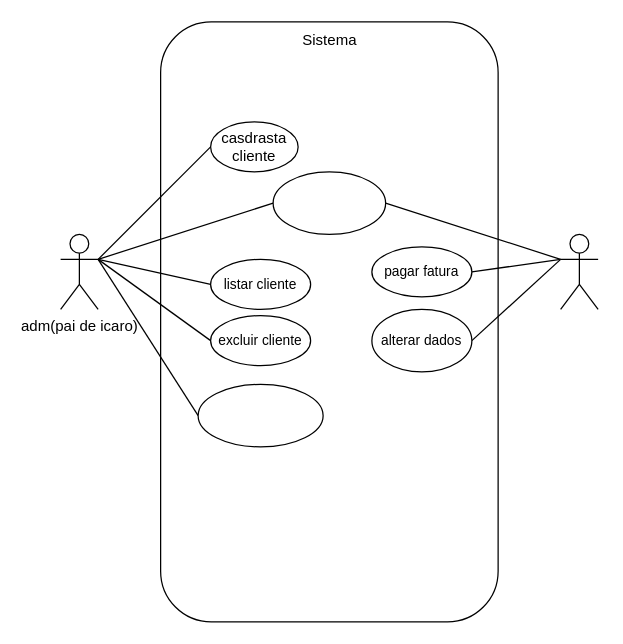
Some shapes in this 623 by 644 pixel diagram are drawn without their labels. Here are the shapes that lost their labels. From the top down, the centre of each, then its label:
(329,202): vizualizar ficha de treino
(578,271): cliente
(260,415): alterar ficha cliente
